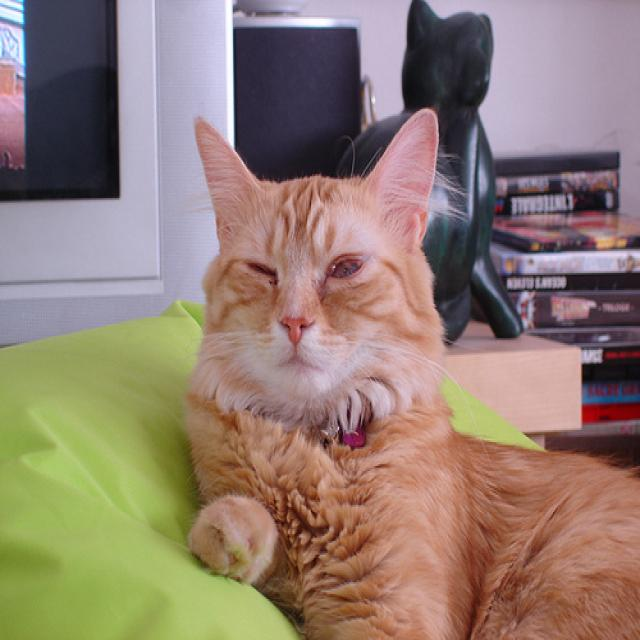left eye: (325, 251, 365, 280)
